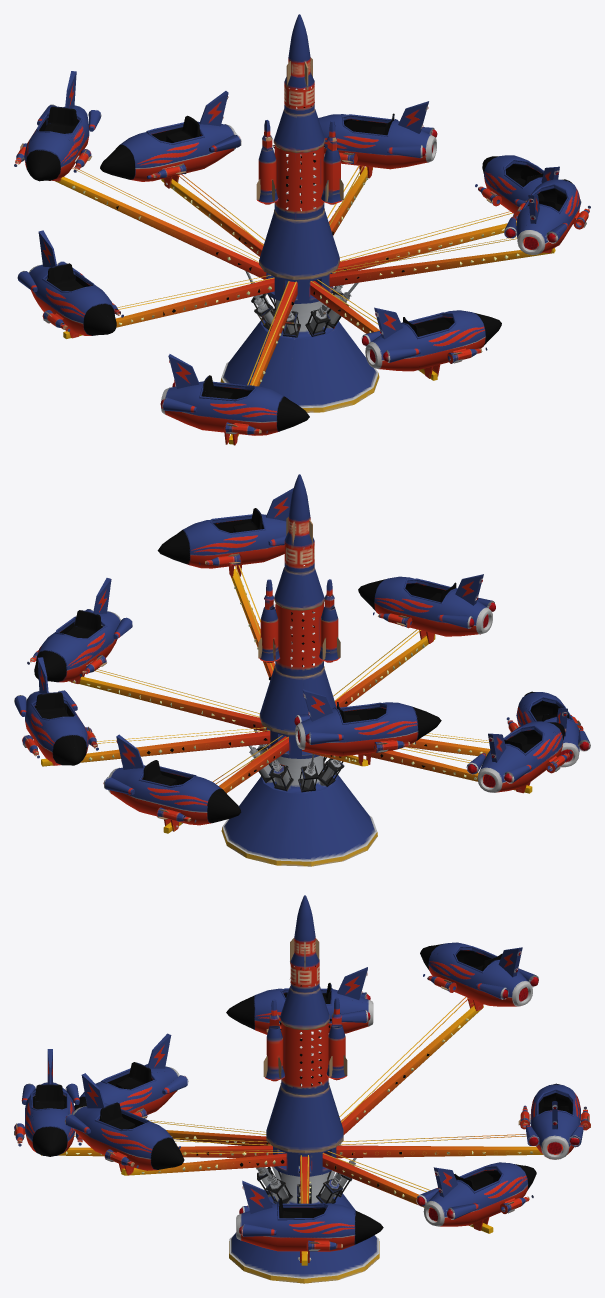
The model's file is Rocket_Carousel_LOD2.fbx.
The picture shows the model from 3 angles, top to bottom: view 1: azimuth 30°, elevation 25°; view 2: azimuth 150°, elevation 25°; view 3: azimuth 270°, elevation 25°; orthographic projection. The views are drawn at different scales.
Parts seen in each view (by area): view 1: RocketCarousel_Base, Rocket_1, Rocket_2, Rocket_6, Rocket_5, Rocket_8, Rocket_7, Rocket_3, RocketArm_7, Rocket_4, RocketArm_3, RocketArm_4 (+5 smaller); view 2: RocketCarousel_Base, Rocket_7, Rocket_2, Rocket_6, Rocket_3, Rocket_4, Rocket_8, Rocket_5, RocketArm_4, Rocket_1, RocketArm_5, RocketArm_2 (+4 smaller); view 3: RocketCarousel_Base, Rocket_4, Rocket_3, Rocket_5, Rocket_7, Rocket_2, Rocket_1, Rocket_6, Rocket_8, RocketArm_6, RocketArm_7, RocketArm_3 (+4 smaller).
Boxes of the visible parts, bbox=[...] form: RocketCarousel_Base: bbox=[220, 14, 379, 412]; Rocket_1: bbox=[160, 354, 309, 445]; Rocket_2: bbox=[361, 307, 501, 378]; Rocket_6: bbox=[100, 91, 241, 188]; Rocket_5: bbox=[318, 101, 437, 178]; Rocket_8: bbox=[17, 230, 123, 338]; Rocket_7: bbox=[14, 71, 101, 181]; Rocket_3: bbox=[504, 179, 590, 254]; RocketArm_7: bbox=[55, 166, 266, 279]; Rocket_4: bbox=[475, 155, 581, 213]; RocketArm_3: bbox=[329, 237, 555, 286]; RocketArm_4: bbox=[333, 211, 516, 273]; RocketCarousel_Base: bbox=[221, 474, 377, 866]; Rocket_7: bbox=[294, 689, 441, 765]; Rocket_2: bbox=[358, 574, 495, 643]; Rocket_6: bbox=[103, 734, 241, 831]; Rocket_3: bbox=[157, 488, 293, 577]; Rocket_4: bbox=[27, 578, 132, 683]; Rocket_8: bbox=[466, 721, 572, 793]; Rocket_5: bbox=[14, 657, 98, 765]; RocketArm_4: bbox=[69, 669, 266, 731]; Rocket_1: bbox=[506, 691, 590, 767]; RocketArm_5: bbox=[41, 727, 270, 766]; RocketArm_2: bbox=[333, 629, 435, 707]; RocketCarousel_Base: bbox=[229, 895, 379, 1283]; Rocket_4: bbox=[236, 1180, 383, 1262]; Rocket_3: bbox=[64, 1073, 184, 1174]; Rocket_5: bbox=[416, 1162, 536, 1230]; Rocket_7: bbox=[420, 942, 538, 1011]; Rocket_2: bbox=[14, 1049, 82, 1156]; Rocket_1: bbox=[74, 1033, 188, 1118]; Rocket_6: bbox=[518, 1083, 590, 1159]; Rocket_8: bbox=[226, 967, 373, 1034]; RocketArm_6: bbox=[336, 1134, 542, 1158]; RocketArm_7: bbox=[339, 997, 483, 1134]; RocketArm_3: bbox=[121, 1150, 286, 1175].
Size of the model in its own units: 1101 by 744 by 1096.
Materials: 3 (1 with a texture image).
